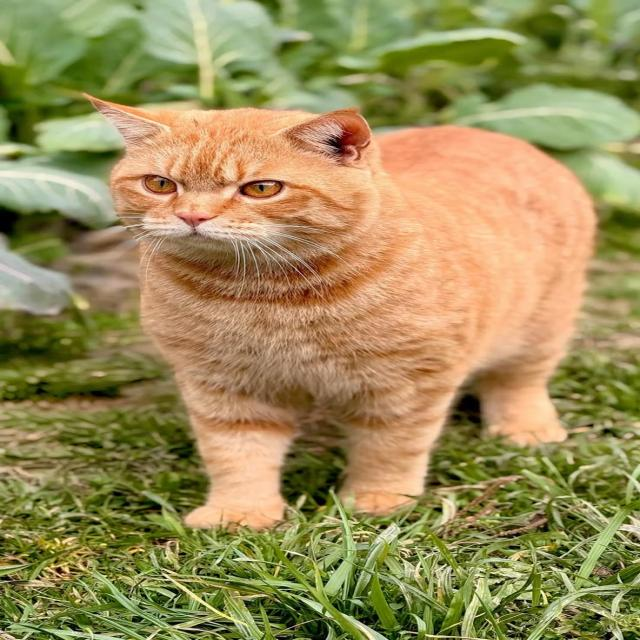sarman: (39, 16, 598, 521)
